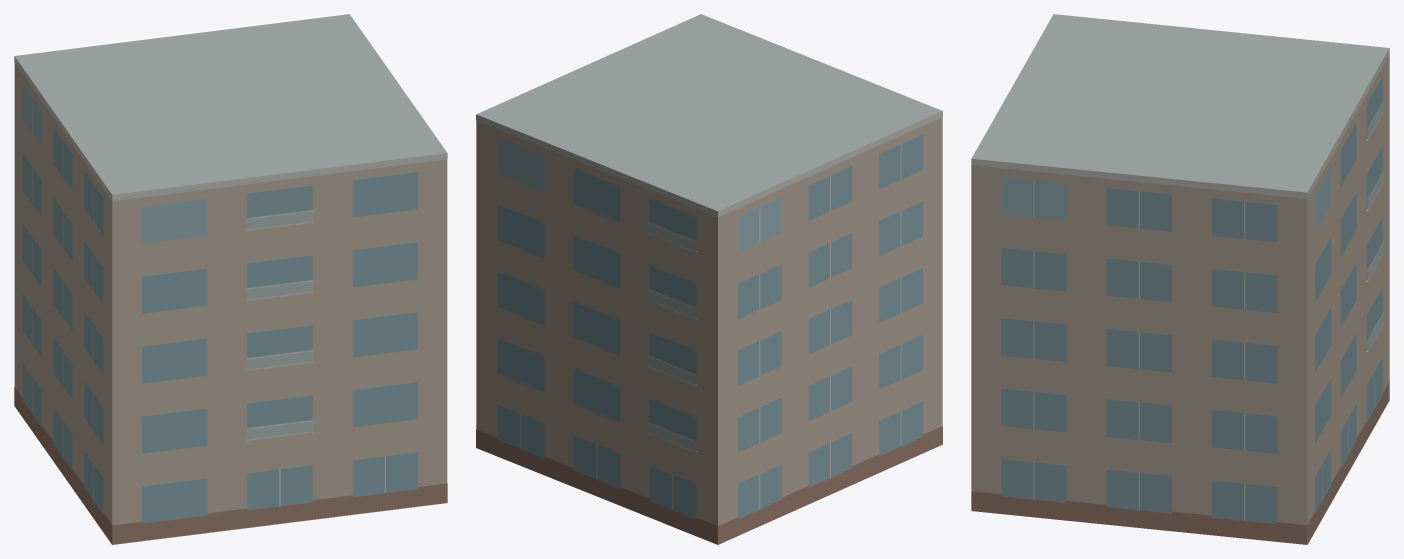
File: survey-upis-32707091.glb
3 renders of one model, left to right at view 1: azimuth 30°, elevation 25°; view 2: azimuth 150°, elevation 25°; view 3: azimuth 270°, elevation 25°, orthographic. The views are drawn at different scales.
Visible parts, largest first — view 1: survey-upis-32707091.tmp; view 2: survey-upis-32707091.tmp; view 3: survey-upis-32707091.tmp.
Part boxes in pixels (x1,y1,x2,y2): survey-upis-32707091.tmp: [14, 14, 447, 544]; survey-upis-32707091.tmp: [476, 14, 942, 544]; survey-upis-32707091.tmp: [971, 14, 1389, 544].
Size of the model in its own units: 14.63 by 13.45 by 14.48.
